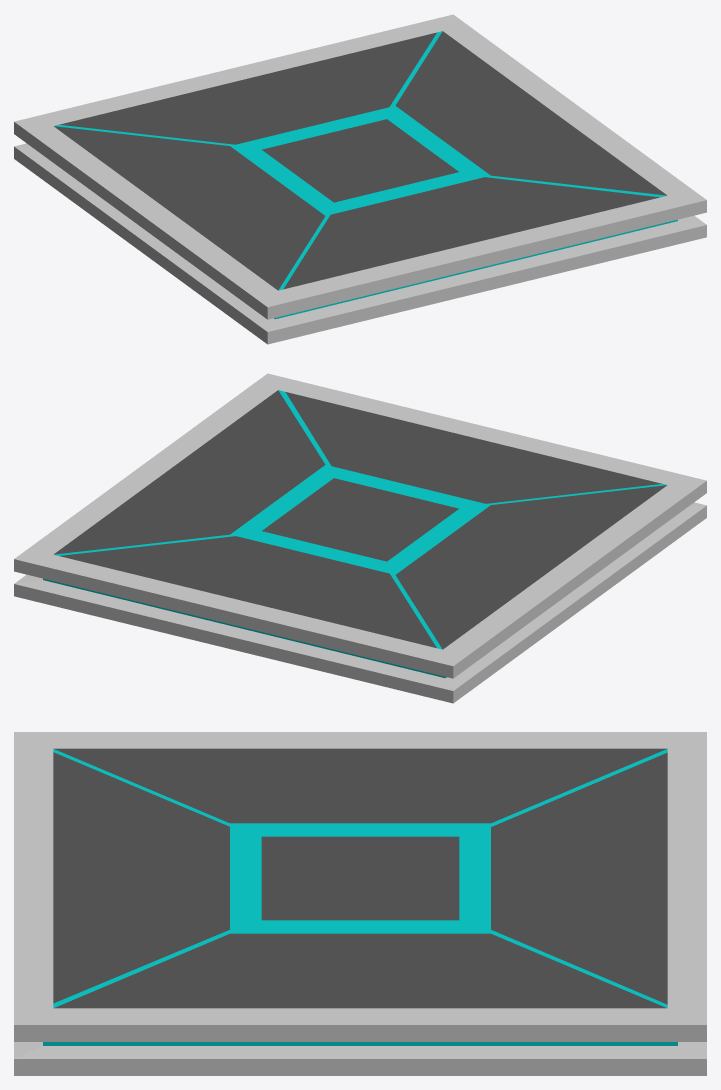
File: Platform_Futuristic_2.fbx
The picture shows the model from 3 angles, top to bottom: view 1: azimuth 30°, elevation 25°; view 2: azimuth 150°, elevation 25°; view 3: azimuth 270°, elevation 25°; orthographic projection. The views are drawn at different scales.
Visible parts, largest first — view 1: Platform Futuristic 2; view 2: Platform Futuristic 2; view 3: Platform Futuristic 2.
Boxes of the visible parts, <box> form: Platform Futuristic 2: <box>14,14,706,344</box>; Platform Futuristic 2: <box>14,373,706,703</box>; Platform Futuristic 2: <box>14,732,706,1075</box>.
Size of the model in its own units: 402 by 72.55 by 402.
